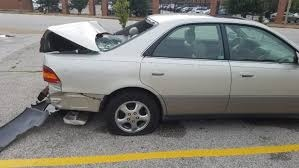Broken-glass: (99, 18, 155, 53)
Dent: (31, 54, 66, 117), (77, 91, 102, 105)
